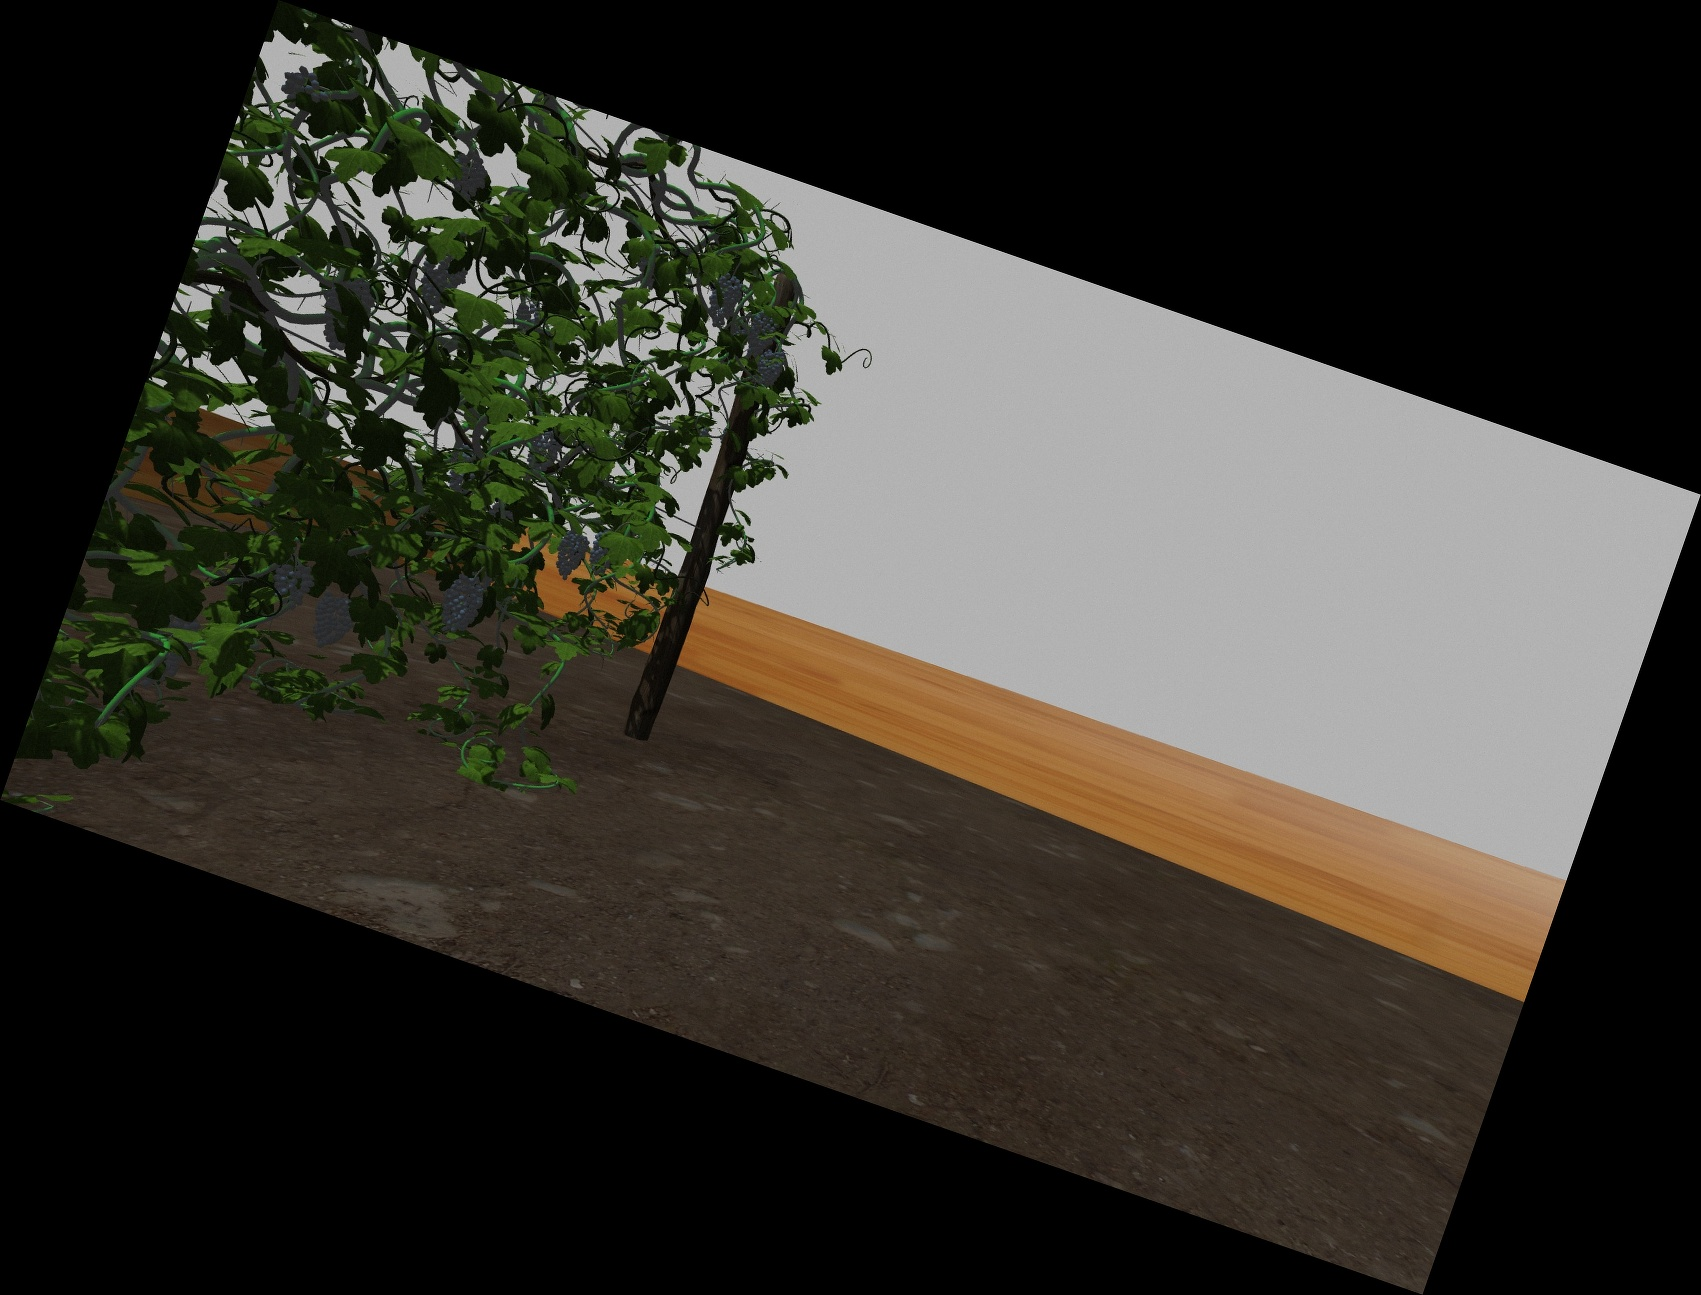grape: (324, 280, 368, 350), (417, 249, 464, 313), (443, 574, 481, 635), (311, 593, 352, 647), (271, 563, 311, 612), (281, 69, 328, 107), (711, 272, 740, 326), (451, 156, 485, 201), (556, 532, 585, 579), (532, 426, 562, 471), (746, 314, 774, 356), (757, 350, 783, 389), (590, 533, 613, 575)
